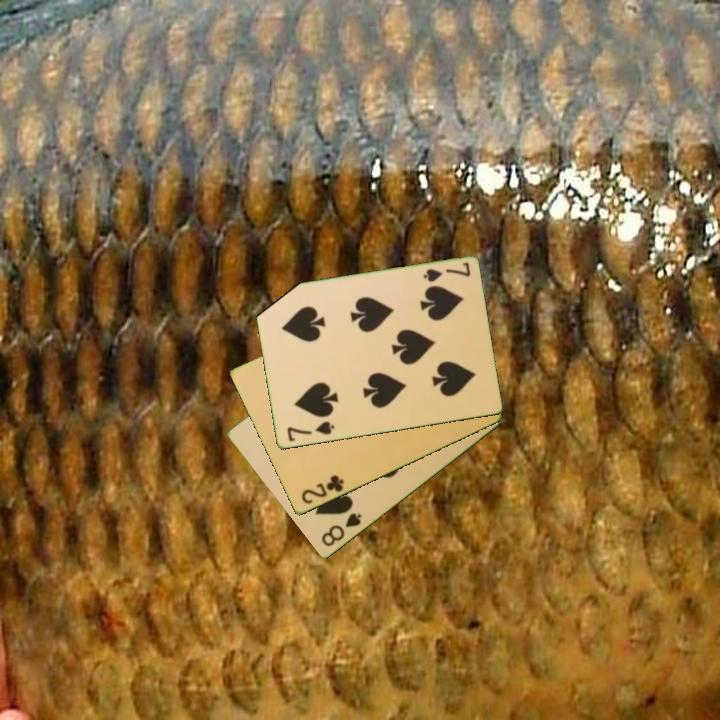2c: (298, 472, 347, 508)
7s: (283, 418, 337, 445), (420, 259, 473, 285)
8s: (318, 510, 365, 550)
